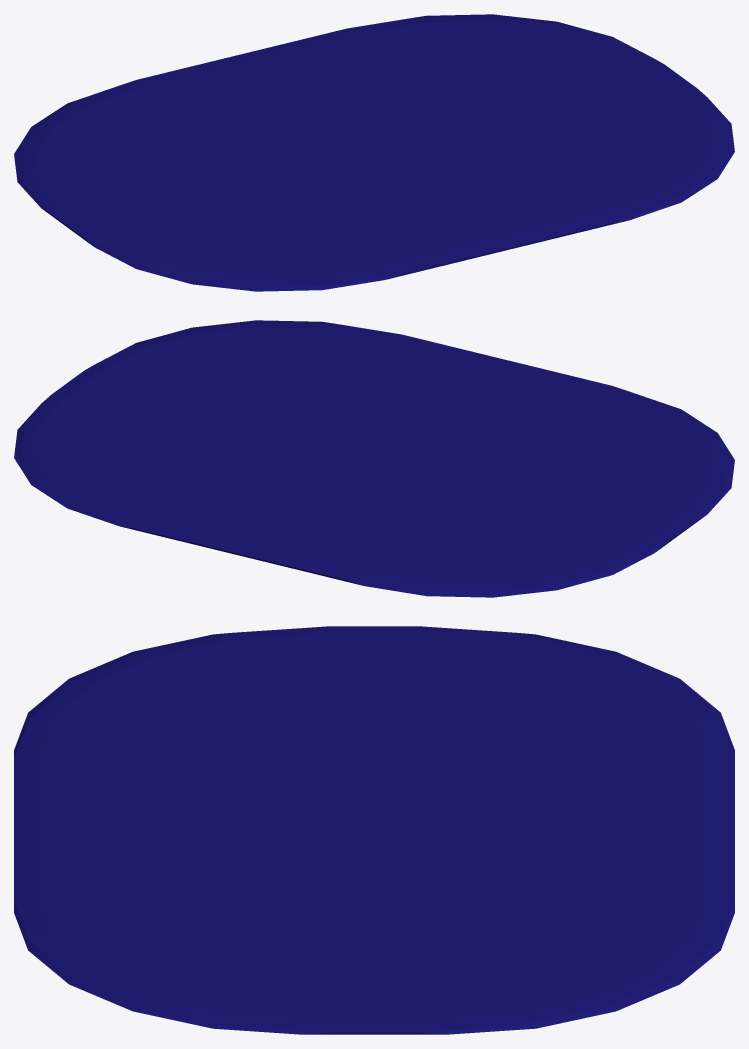
File: MiscAreaRug.fbx
The picture shows the model from 3 angles, top to bottom: view 1: azimuth 30°, elevation 25°; view 2: azimuth 150°, elevation 25°; view 3: azimuth 270°, elevation 25°; orthographic projection. The views are drawn at different scales.
Visible parts, largest first — view 1: pCube6; view 2: pCube6; view 3: pCube6.
Part boxes in pixels (box(x1,y1,x2,y2)): pCube6: box(14, 14, 734, 291); pCube6: box(14, 320, 734, 597); pCube6: box(14, 626, 734, 1034).
Size of the model in its own units: 200 by 1 by 150.
